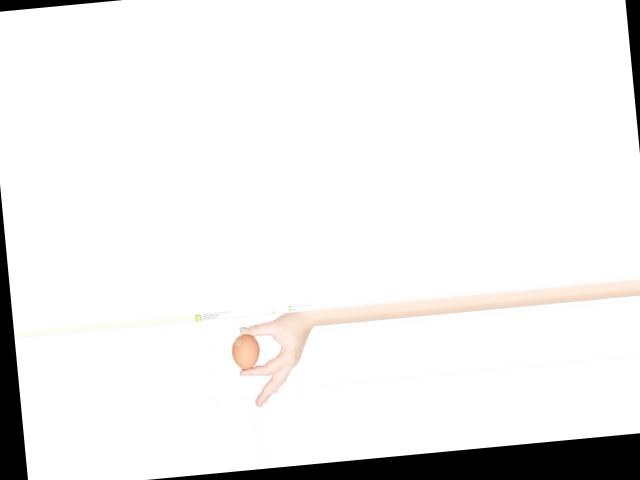egg: (230, 332, 262, 370)
